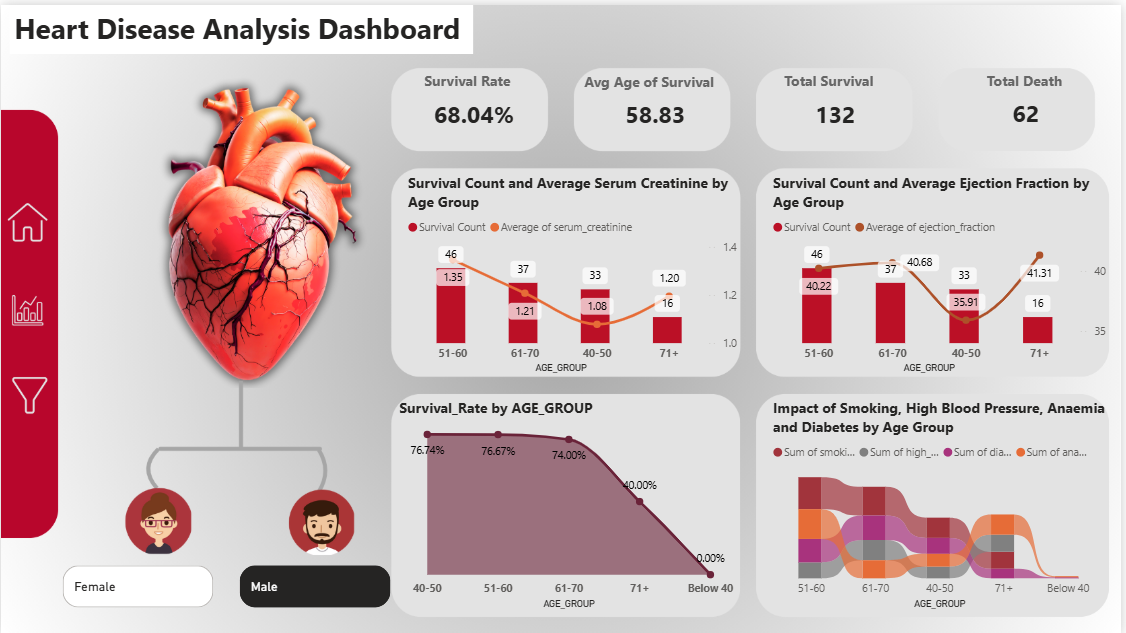

This screenshot's page, from the dashboard's own definition file:
{"tool":"powerbi","page":{"name":"Page 1","canvas":[1280,720],"ordinal":0},"visuals":[{"type":"textbox","box":[9.6,0,529.7,56.3],"z":0},{"type":"card","fields":{"Values":["heart_Disease_clinical_records_.Survival_Rate"]},"box":[460,71.7,161.7,108.3],"z":1000},{"type":"card","fields":{"Values":["heart_Disease_clinical_records_.Average_Age_Survival"]},"box":[671.7,71.7,153.3,108.3],"z":2000},{"type":"card","fields":{"Values":["heart_Disease_clinical_records_.Total_Survior"]},"box":[876.7,71.7,153.3,108.3],"z":3000},{"type":"card","fields":{"Values":["heart_Disease_clinical_records_.Total_Death"]},"box":[1095,70,151.7,108.3],"z":4000},{"type":"textbox","box":[478.3,70,126.7,36.7],"z":5000},{"type":"textbox","box":[661.7,71.7,163.3,38.3],"z":6000},{"type":"textbox","box":[890,70,125,36.7],"z":7000},{"type":"textbox","box":[1121.7,70,100,38.3],"z":8000},{"type":"lineClusteredColumnComboChart","title":"Survival Count and Average Serum Creatinine by Age Group","fields":{"Category":["heart_Disease_clinical_records_.AGE_GROUP"],"Y":["CountNonNull(heart_Disease_clinical_records_.DEATH_EVENT)"],"Y2":["Avg(heart_Disease_clinical_records_.serum_creatinine)"]},"box":[460,191.7,388.3,235],"z":9000},{"type":"lineClusteredColumnComboChart","title":"Survival Count and Average Ejection Fraction by Age Group","fields":{"Category":["heart_Disease_clinical_records_.AGE_GROUP"],"Y":["CountNonNull(heart_Disease_clinical_records_.DEATH_EVENT)"],"Y2":["Avg(heart_Disease_clinical_records_.ejection_fraction)"]},"box":[876.7,191.7,391.7,235],"z":10000},{"type":"lineChart","fields":{"Category":["heart_Disease_clinical_records_.AGE_GROUP"],"Y":["heart_Disease_clinical_records_.Survival_Rate"]},"box":[450,448.3,398.3,246.7],"z":11000},{"type":"ribbonChart","title":"Impact of Smoking, High Blood Pressure, Anaemia and Diabetes by Age Group","fields":{"Category":["heart_Disease_clinical_records_.AGE_GROUP"],"Y":["Sum(heart_Disease_clinical_records_.smoking)","Sum(heart_Disease_clinical_records_.high_blood_pressure)","Sum(heart_Disease_clinical_records_.diabetes)","Sum(heart_Disease_clinical_records_.anaemia)"]},"box":[876.7,448.3,391.7,246.7],"z":12000},{"type":"advancedSlicerVisual","fields":{"Values":["heart_Disease_clinical_records_.Gender"]},"box":[66,636,384,58],"z":13000}]}

Visuals, with their boxes in screenshot pixels (x1, y1, x2, y2), scaled from the page's 1280x720 canvas onto the 1126x633 screenshot:
textbox: BBox(8, 0, 474, 49)
card - heart_Disease_clinical_records_.Survival_Rate: BBox(405, 63, 547, 158)
card - heart_Disease_clinical_records_.Average_Age_Survival: BBox(591, 63, 726, 158)
card - heart_Disease_clinical_records_.Total_Survior: BBox(771, 63, 906, 158)
card - heart_Disease_clinical_records_.Total_Death: BBox(963, 62, 1097, 157)
textbox: BBox(421, 62, 532, 94)
textbox: BBox(582, 63, 726, 97)
textbox: BBox(783, 62, 893, 94)
textbox: BBox(987, 62, 1075, 95)
"Survival Count and Average Serum Creatinine by Age Group" lineClusteredColumnComboChart: BBox(405, 169, 746, 375)
"Survival Count and Average Ejection Fraction by Age Group" lineClusteredColumnComboChart: BBox(771, 169, 1116, 375)
lineChart - heart_Disease_clinical_records_.AGE_GROUP x heart_Disease_clinical_records_.Survival_Rate: BBox(396, 394, 746, 611)
"Impact of Smoking, High Blood Pressure, Anaemia and Diabetes by Age Group" ribbonChart: BBox(771, 394, 1116, 611)
advancedSlicerVisual - heart_Disease_clinical_records_.Gender: BBox(58, 559, 396, 610)
